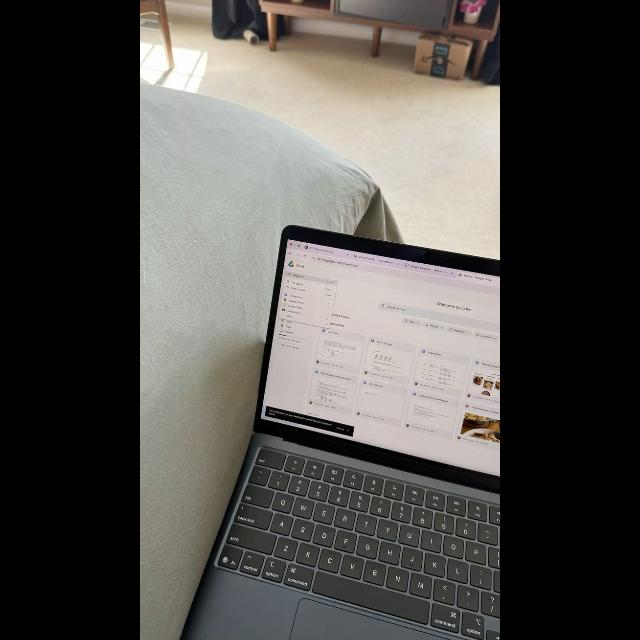laptop: (184, 223, 500, 640)
